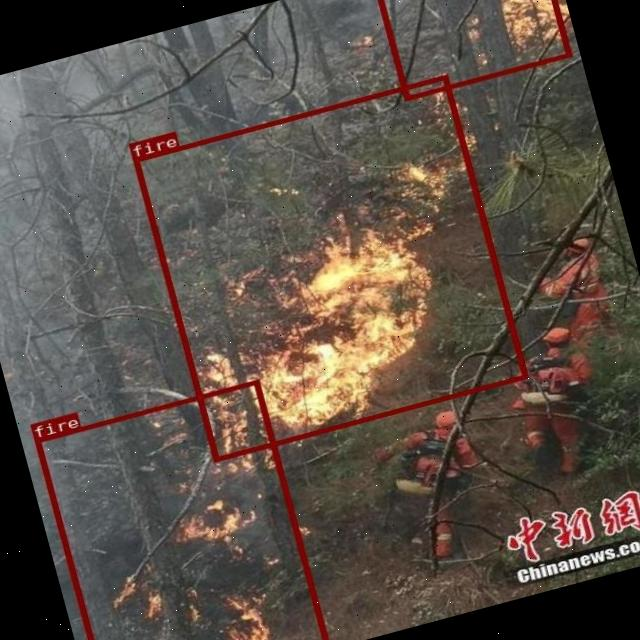fire: (132, 74, 526, 462), (33, 378, 329, 640), (372, 0, 570, 100)
